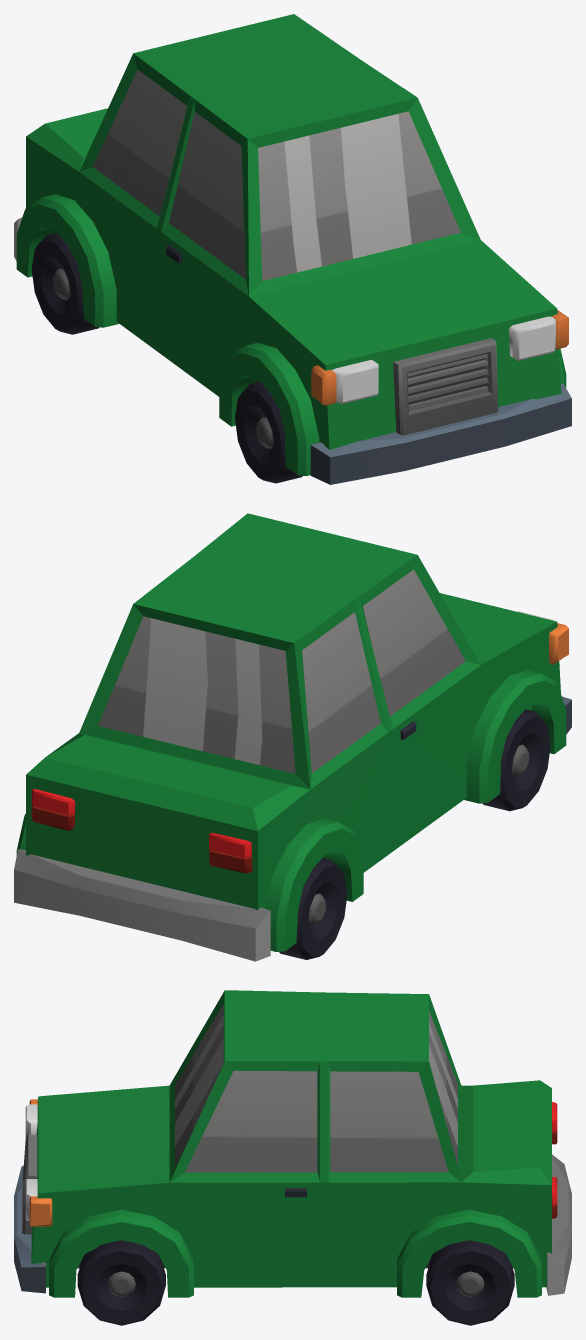
Rendered from Car_2_17.glb.
3 renders of one model, top to bottom at view 1: azimuth 30°, elevation 25°; view 2: azimuth 150°, elevation 25°; view 3: azimuth 270°, elevation 25°, orthographic. The views are drawn at different scales.
Parts seen in each view (by area): view 1: Car_2_17, W_BR, W_FR; view 2: Car_2_17, W_FR, W_BR; view 3: Car_2_17, W_BL, W_FL.
Boxes of the visible parts, x1,y1,x2,y2 form: Car_2_17: (14, 14, 571, 484); W_BR: (31, 232, 99, 334); W_FR: (235, 381, 302, 483); Car_2_17: (14, 513, 571, 961); W_FR: (482, 709, 550, 811); W_BR: (279, 858, 347, 959); Car_2_17: (14, 990, 571, 1297); W_BL: (426, 1240, 514, 1325); W_FL: (77, 1240, 165, 1325).
Bounding box in the file's own units: 1.09 × 1.11 × 2.28.
Materials: 5 (5 with a texture image).
